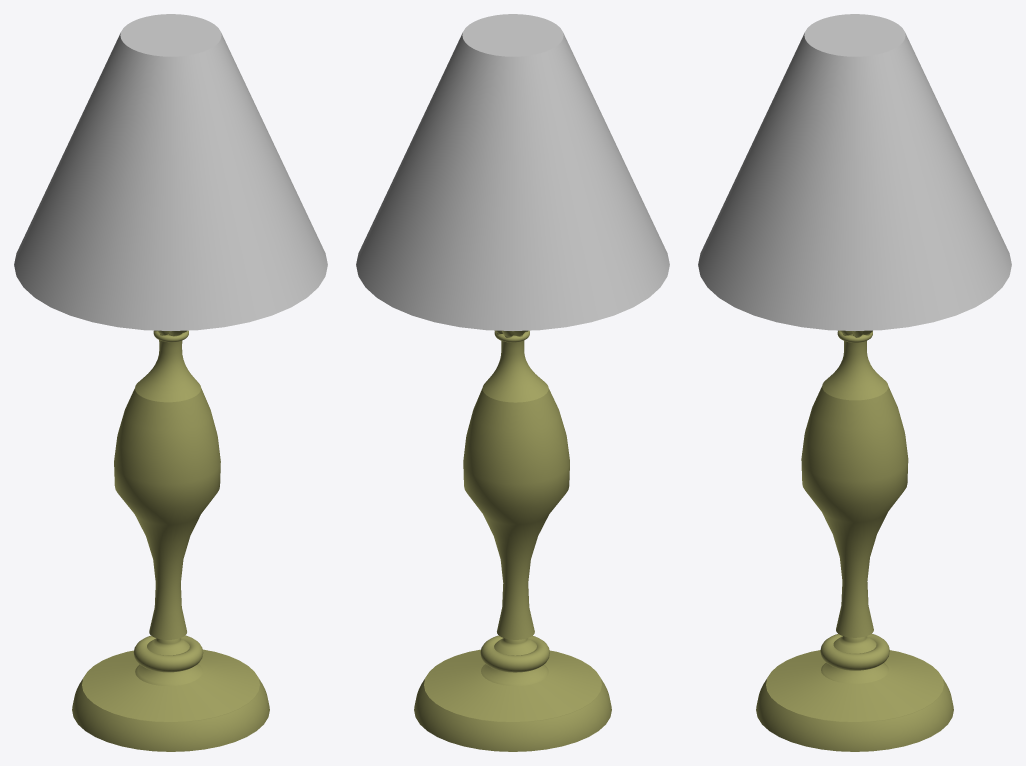
Rendered from lamp-m.obj.
3 views of the same model, side by side, from view 1: azimuth 30°, elevation 25°; view 2: azimuth 150°, elevation 25°; view 3: azimuth 270°, elevation 25° (orthographic).
Parts seen in each view (by area): view 1: Mesh; view 2: Mesh; view 3: Mesh.
Part boxes in pixels (left/top/right/bottom): Mesh: left=14, top=14, right=327, bottom=751; Mesh: left=356, top=14, right=669, bottom=751; Mesh: left=698, top=14, right=1011, bottom=751.
Bounding box in the file's own units: 248 × 588 × 248.
